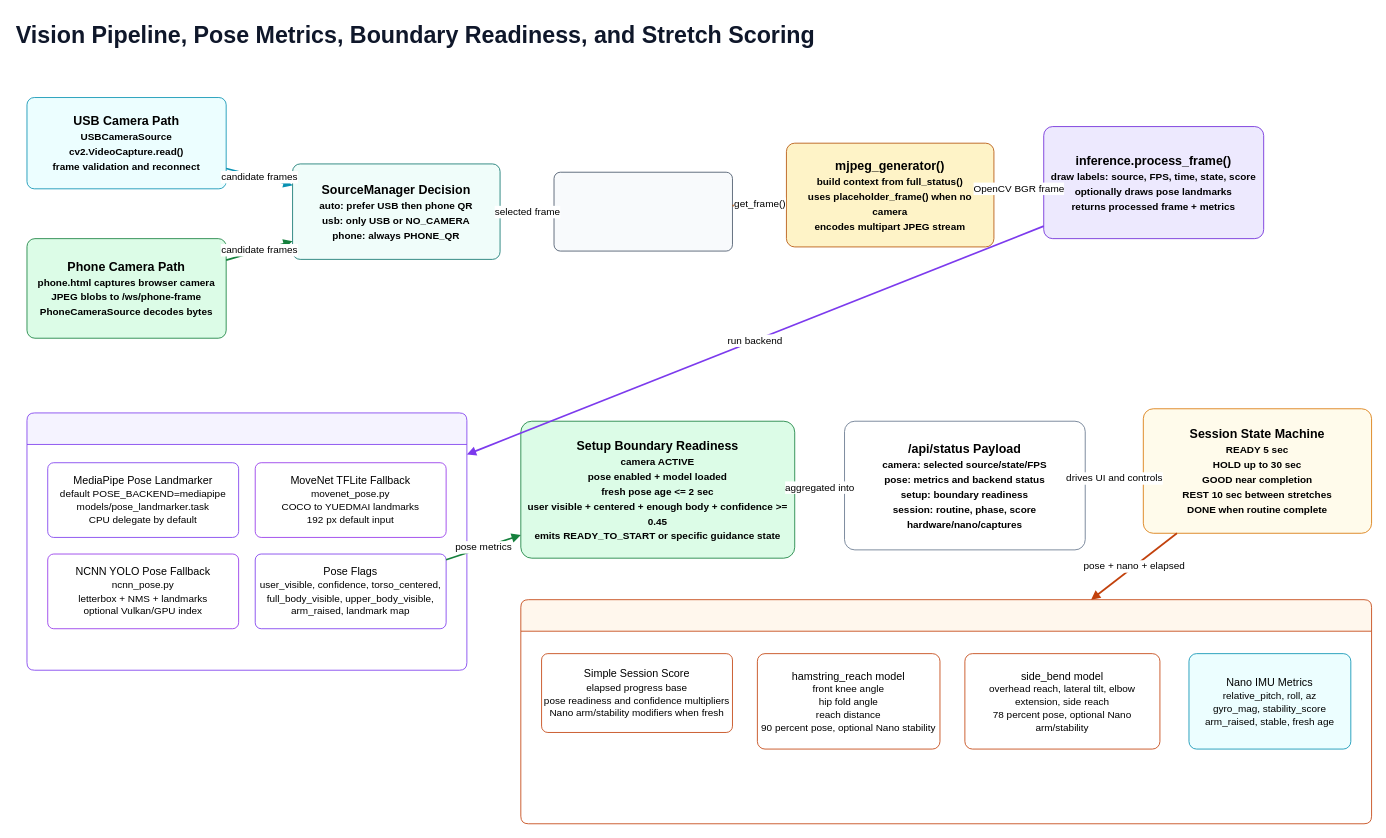
The diagram is 1386 pixels wide and 838 high, and some of its shapes have lost their labels. Here are the shapes that lost their labels. From the top down, the box of each, then its label:
(553, 171, 732, 251): LatestFrameStore selected frame copy frame stats and timestamps
(26, 412, 467, 670): PoseTracker
(520, 599, 1372, 824): Scoring Inputs and Models
